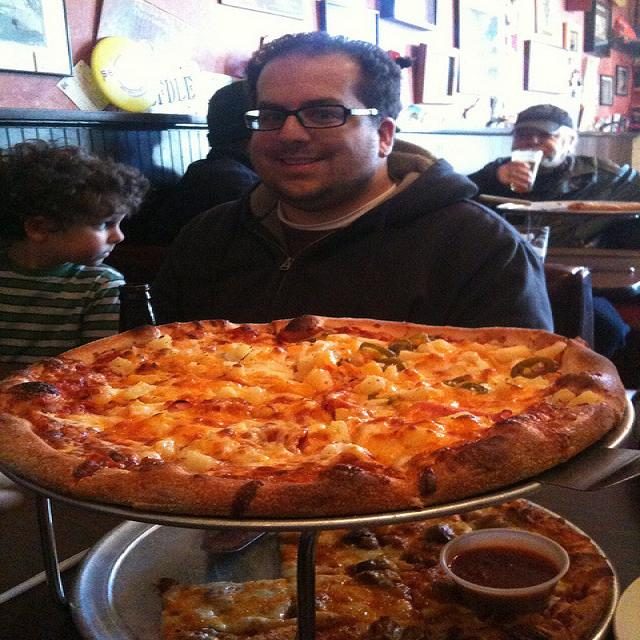chair: (543, 261, 595, 347)
dining table: (0, 477, 640, 640), (473, 195, 640, 287)
